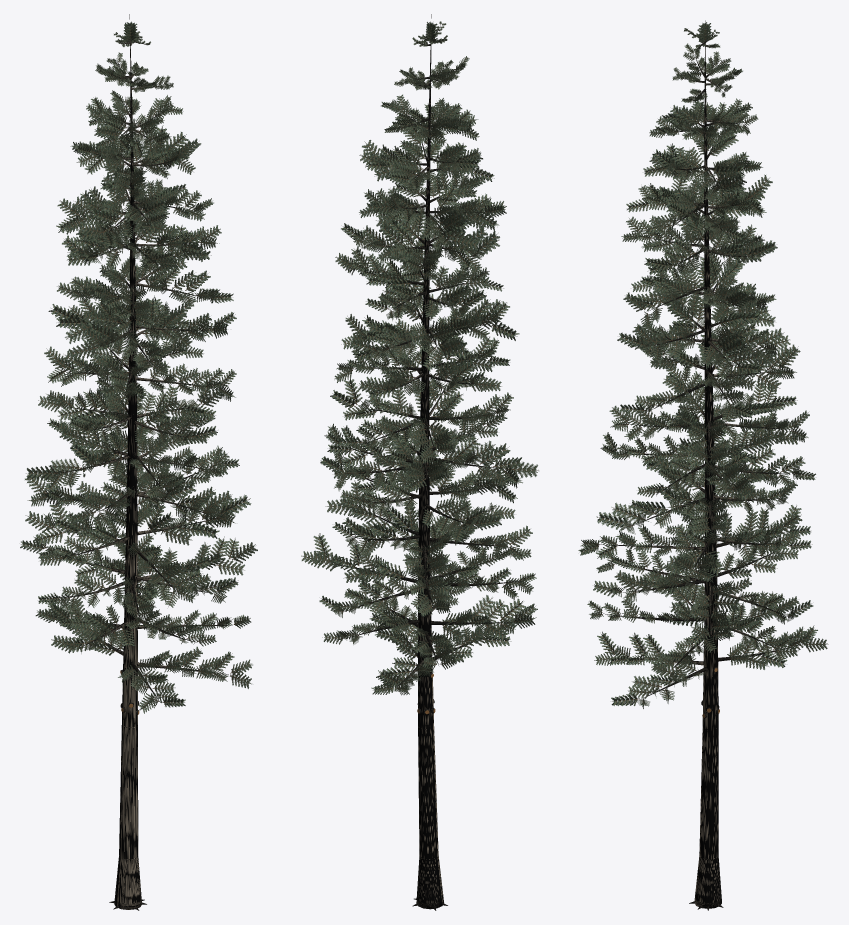
File: Sitka_Mature_03_LowPruned_Recent_LOD0.fbx
The picture shows the model from 3 angles, left to right: view 1: azimuth 30°, elevation 25°; view 2: azimuth 150°, elevation 25°; view 3: azimuth 270°, elevation 25°; orthographic projection.
Visible parts, largest first — view 1: Sitka_Mature_03_LowPruned_Recent_LOD0; view 2: Sitka_Mature_03_LowPruned_Recent_LOD0; view 3: Sitka_Mature_03_LowPruned_Recent_LOD0.
Boxes of the visible parts, <box> form: Sitka_Mature_03_LowPruned_Recent_LOD0: <box>20,14,257,910</box>; Sitka_Mature_03_LowPruned_Recent_LOD0: <box>301,14,538,910</box>; Sitka_Mature_03_LowPruned_Recent_LOD0: <box>578,20,828,910</box>.
Bounding box in the file's own units: 656 × 2400 × 641.
3 materials, 3 textured.
